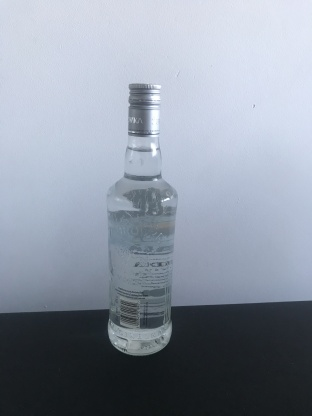nakretka: (126, 81, 162, 138)
